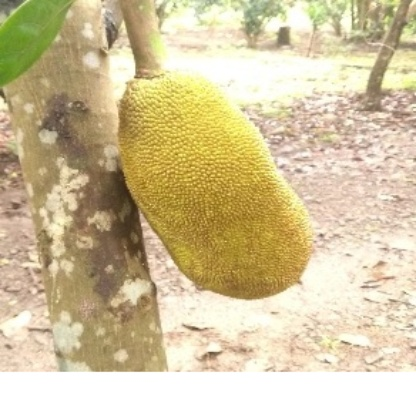mit: (109, 54, 316, 299)
